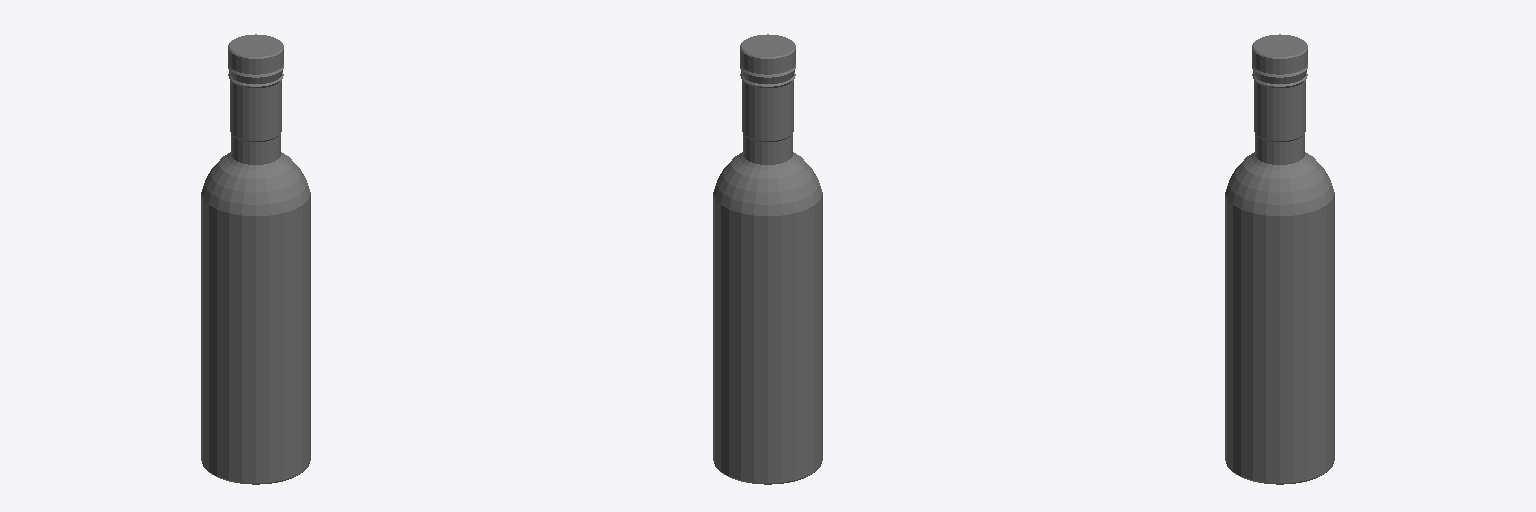
The model's file is wine_bottle_1.obj.
The picture shows the model from 3 angles: view 1: azimuth 30°, elevation 25°; view 2: azimuth 150°, elevation 25°; view 3: azimuth 270°, elevation 25°; orthographic projection.
Visible parts, largest first — view 1: Wine; view 2: Wine; view 3: Wine.
Boxes of the visible parts, x1,y1,x2,y2 form: Wine: [201, 34, 310, 484]; Wine: [713, 34, 822, 484]; Wine: [1225, 34, 1334, 484].
Bounding box in the file's own units: 0.1164 × 0.493 × 0.1164.